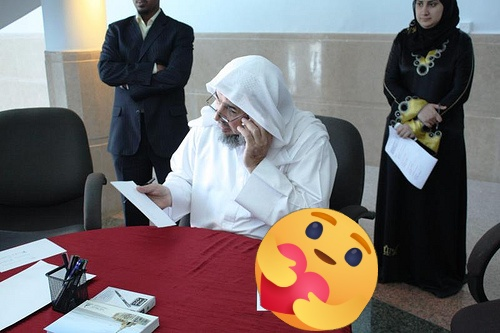care: (255, 208, 378, 331)
